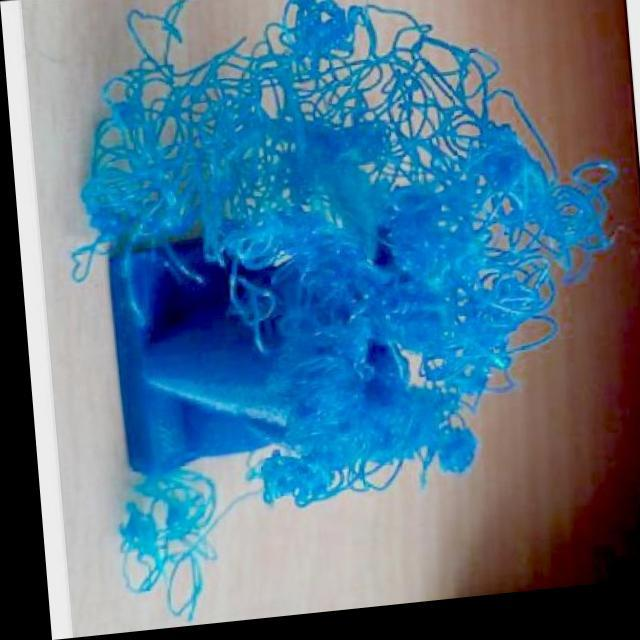spaghetti: (45, 0, 640, 531), (94, 512, 224, 634)
